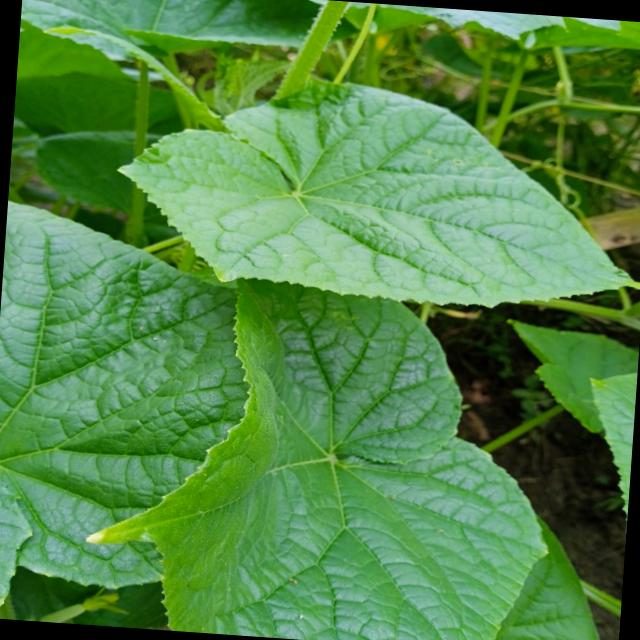cucumber_healthy: (75, 262, 568, 640), (105, 62, 640, 323), (0, 198, 265, 631), (494, 313, 640, 441), (580, 365, 638, 512)
